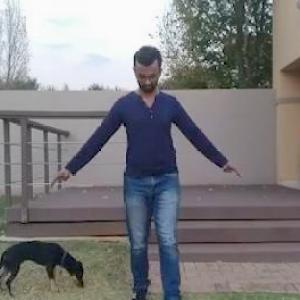land: (70, 49, 238, 299)
